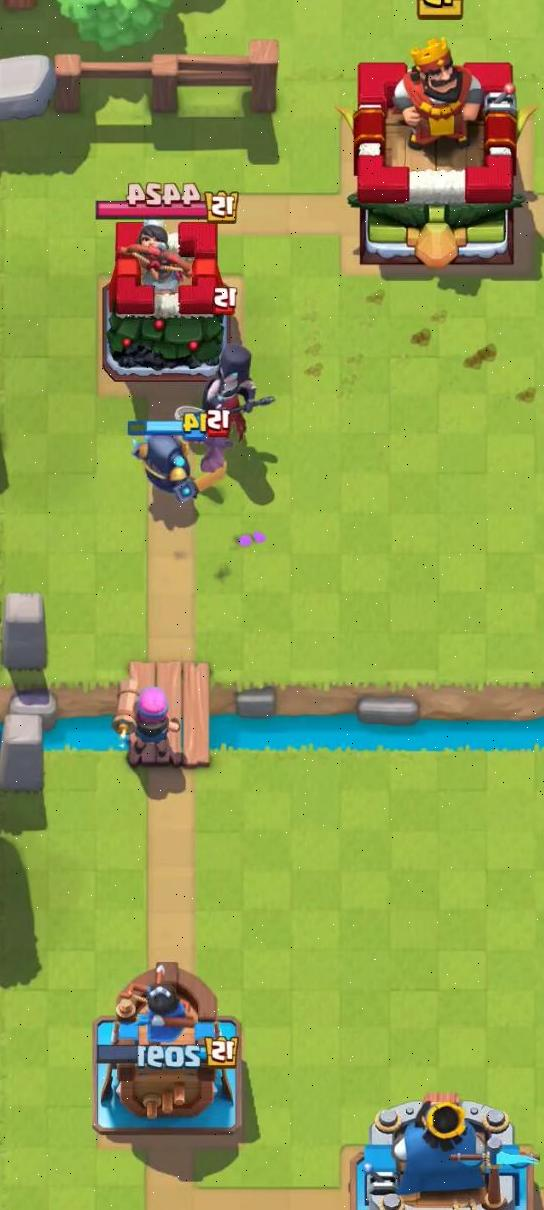enemy_bats: (185, 407, 244, 471)
enemy_night_witch: (193, 317, 280, 432)
player_firecraker: (110, 666, 190, 768)
player_mini_pekka: (122, 407, 218, 506)
